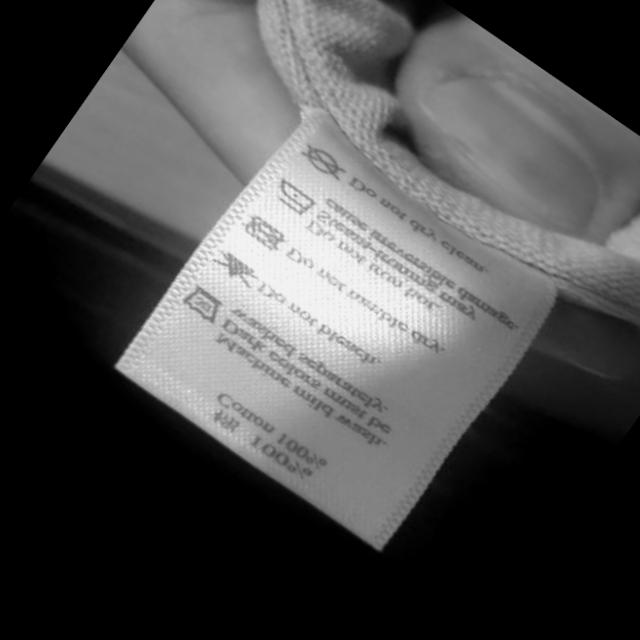30C: (185, 283, 222, 323)
DN_bleach: (219, 251, 262, 286)
DN_dry_clean: (309, 143, 342, 178)
DN_tumble_dry: (247, 218, 286, 251)
iron_low: (281, 179, 313, 212)
